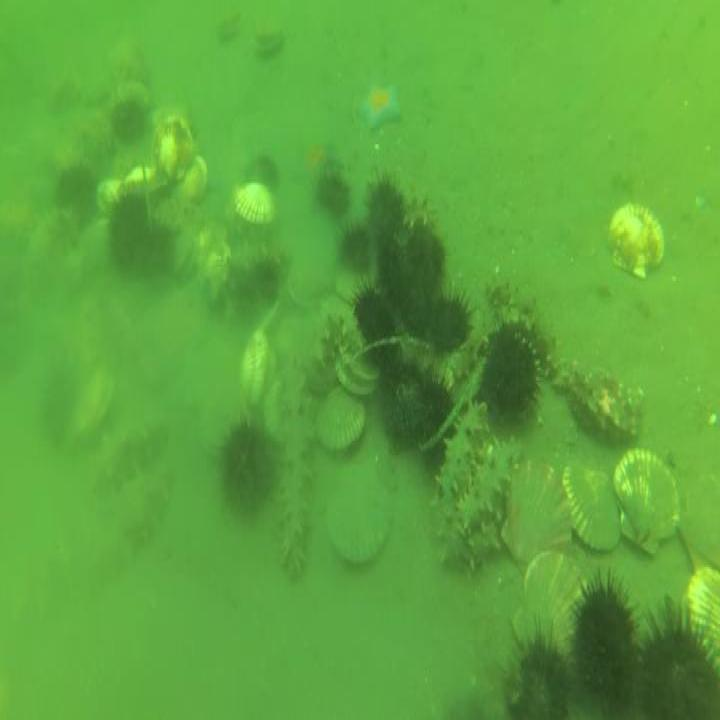echinus: (566, 566, 640, 708), (636, 599, 720, 720), (502, 620, 573, 720), (219, 418, 275, 517), (379, 356, 435, 455), (107, 192, 150, 274), (364, 171, 406, 249), (401, 217, 447, 284), (354, 288, 397, 359), (55, 162, 97, 233), (426, 288, 473, 350), (41, 377, 79, 448), (137, 217, 177, 279), (373, 242, 411, 304), (337, 220, 376, 272), (402, 285, 436, 343), (315, 167, 353, 217), (252, 256, 282, 304), (243, 151, 278, 189)
holothurian: (482, 267, 565, 389), (277, 354, 311, 585), (449, 435, 517, 537), (436, 395, 491, 521), (90, 418, 165, 507), (106, 466, 176, 558), (437, 322, 486, 388), (458, 519, 508, 573), (228, 236, 284, 272)
scallop: (508, 540, 590, 660), (609, 437, 683, 564), (322, 460, 399, 578), (500, 448, 575, 569), (560, 455, 622, 555), (607, 194, 667, 288), (682, 554, 720, 674), (312, 391, 369, 459), (330, 336, 381, 400), (75, 366, 117, 443), (150, 112, 196, 181), (240, 325, 272, 409), (233, 182, 280, 229), (172, 153, 211, 208), (245, 16, 288, 59), (334, 265, 377, 306), (261, 379, 286, 446), (214, 0, 248, 48), (122, 158, 160, 199), (95, 176, 123, 220)
starfish: (290, 135, 340, 192), (358, 73, 402, 133)
